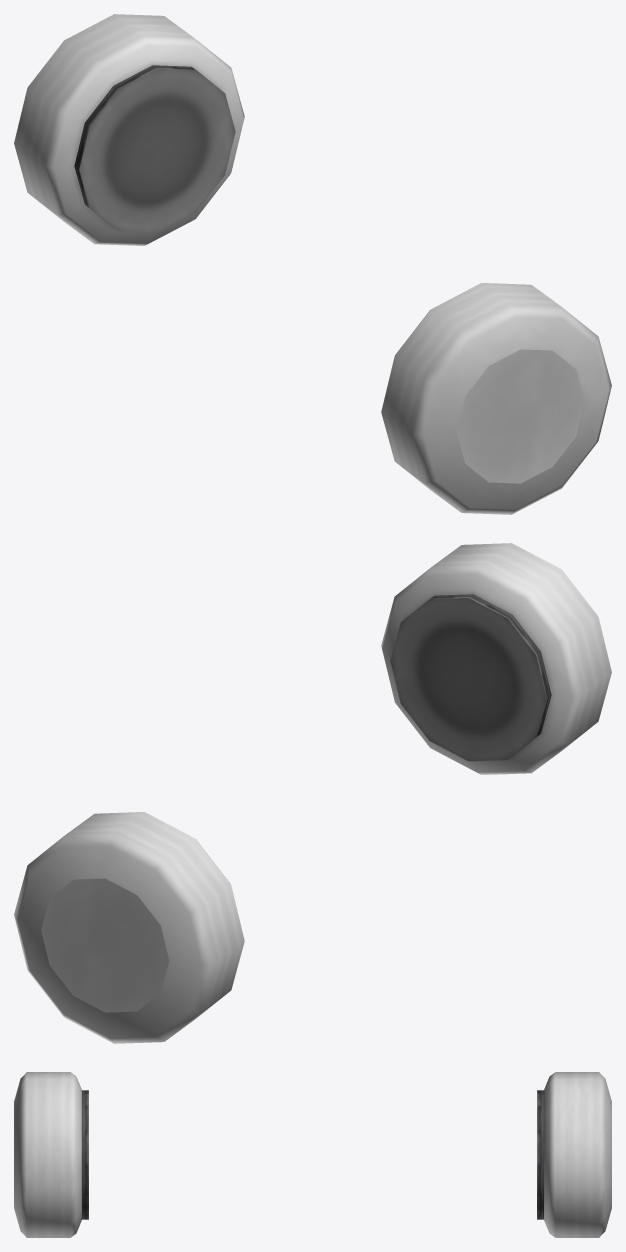
The model's file is Mat_WaterTankButt_01_B.fbx.
3 views of the same model, one above another, from view 1: azimuth 30°, elevation 25°; view 2: azimuth 150°, elevation 25°; view 3: azimuth 270°, elevation 25° (orthographic). The views are drawn at different scales.
Parts seen in each view (by area): view 1: Mat_WaterTankButt_01_B; view 2: Mat_WaterTankButt_01_B; view 3: Mat_WaterTankButt_01_B.
Part boxes in pixels (x1,y1,x2,y2): Mat_WaterTankButt_01_B: [14, 14, 611, 514]; Mat_WaterTankButt_01_B: [14, 543, 611, 1043]; Mat_WaterTankButt_01_B: [14, 1072, 611, 1237].
Size of the model in its own units: 0.3515 by 0.3515 by 1.26.
Materials: 1 (1 with a texture image).
